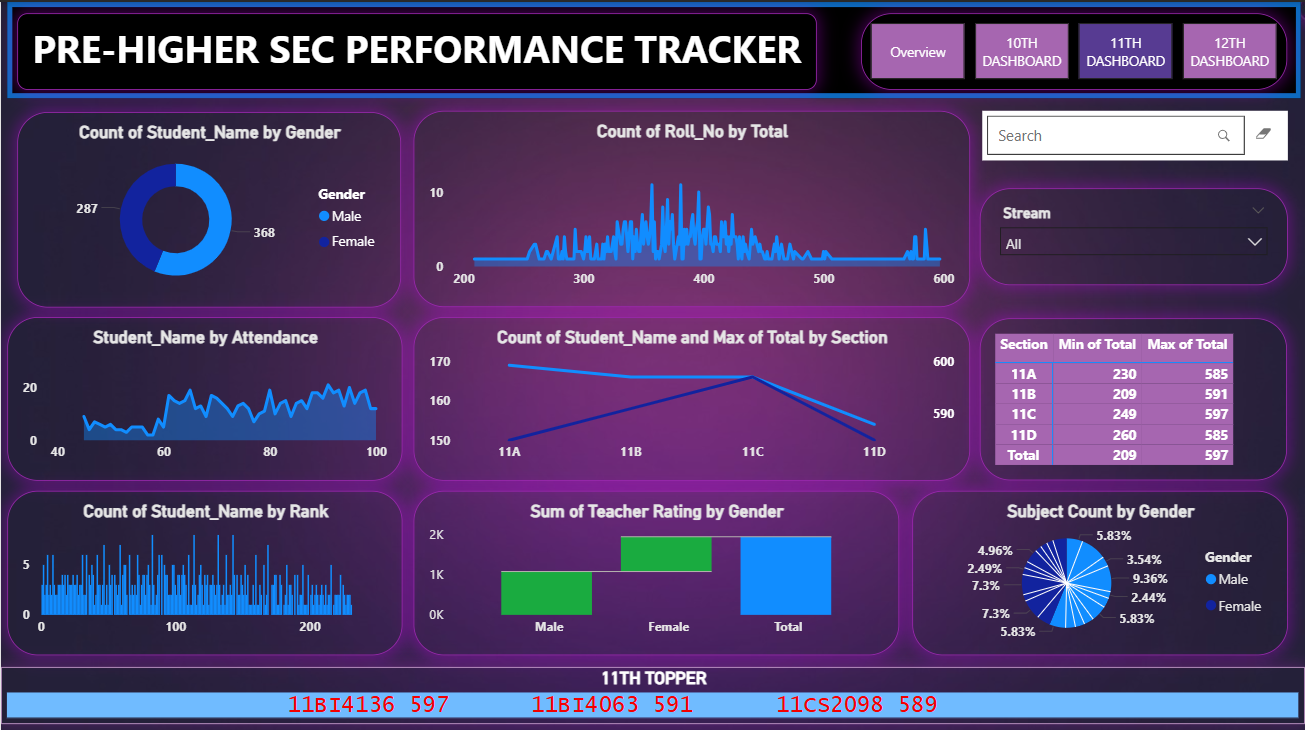

Layout of this report page (visuals, bound fields, positions):
{"tool":"powerbi","page":{"name":"11TH DASHBOARD","canvas":[1280,720],"ordinal":2},"visuals":[{"type":"columnChart","fields":{"Y":["CountNonNull(Append2.Student_Name)"],"Category":["Append2.Rank"]},"box":[5.8,480.2,388.4,161.6],"z":0},{"type":"slicer","fields":{"Values":["Append2.Stream"]},"box":[960.5,182.6,302.3,95.3],"z":1000},{"type":"pieChart","title":"Subject  Count by Gender ","fields":{"Category":["Append2.Gender"],"Y":["CountNonNull(Append2.Physics)","CountNonNull(Append2.Tamil)","CountNonNull(Append2.Economics)","CountNonNull(Append2.English)","CountNonNull(Append2.Computer Science)","CountNonNull(Append2.Commerce)","CountNonNull(Append2.Chemistry)","CountNonNull(Append2.Business Maths)","CountNonNull(Append2.Biology)","CountNonNull(Append2.Accounts)","CountNonNull(Append2.Maths)"]},"box":[894.2,480.2,368.6,161.6],"z":2000},{"type":"pivotTable","fields":{"Rows":["Append2.Section"],"Values":["Min(Append2.Total)","Max(Append2.Total)"]},"box":[960.7,310.4,301.8,159.5],"z":3000},{"type":"areaChart","title":"Student_Name by Attendance","fields":{"Y":["CountNonNull(Append2.Student_Name)"],"Category":["Append2.Attendance"]},"box":[6.1,309.2,387.7,160.7],"z":4000},{"type":"areaChart","fields":{"Y":["CountNonNull(Append2.Roll_No)"],"Category":["Append2.Total"]},"box":[404.9,106.7,546,192.6],"z":5000},{"type":"waterfallChart","fields":{"Category":["Append2.Gender"],"Y":["Sum(11th overall.Teacher Rating)"]},"box":[404.7,480.2,476.7,161.6],"z":6000},{"type":"lineChart","fields":{"Category":["Append2.Section"],"Y":["CountNonNull(Append2.Student_Name)"],"Y2":["Max(Append2.Total)"]},"box":[404.9,309.2,546,160.7],"z":7000},{"type":"shape","box":[6.1,0,1269.9,94.5],"z":8000},{"type":"textbox","box":[16.3,10.5,784.9,75.6],"z":9000},{"type":"pageNavigator","box":[844.2,10.5,418.6,75.6],"z":10000},{"type":"ScrollingTextVisual1448795304508","title":"11TH TOPPER","fields":{"Category":["11th overall.Roll_No"],"Measure Absolute":["Sum(11th overall.Total)"]},"box":[0,652.3,1280.2,55.8],"z":11000},{"type":"donutChart","fields":{"Y":["CountNonNull(11th overall.Student_Name)"],"Category":["11th overall.Gender"]},"box":[16.3,108.1,376.7,191.9],"z":12000},{"type":"textFilter25A4896A83E0487089E2B90C9AE57C8A","fields":{"field":["11th overall.Roll_No"]},"box":[962.8,107,300,48.8],"z":13000}]}

Visuals, with their boxes in screenshot pixels (x1, y1, x2, y2), scaled from the page's 1280x720 canvas onto the 1305x730 screenshot:
columnChart - CountNonNull(Append2.Student_Name) x Append2.Rank: pyautogui.locateOnScreen(6, 487, 402, 651)
slicer - Append2.Stream: pyautogui.locateOnScreen(979, 185, 1287, 282)
"Subject  Count by Gender " pieChart: pyautogui.locateOnScreen(912, 487, 1287, 651)
pivotTable - Append2.Section x Min(Append2.Total): pyautogui.locateOnScreen(979, 315, 1287, 476)
"Student_Name by Attendance" areaChart: pyautogui.locateOnScreen(6, 313, 401, 476)
areaChart - CountNonNull(Append2.Roll_No) x Append2.Total: pyautogui.locateOnScreen(413, 108, 969, 303)
waterfallChart - Append2.Gender x Sum(11th overall.Teacher Rating): pyautogui.locateOnScreen(413, 487, 899, 651)
lineChart - Append2.Section x CountNonNull(Append2.Student_Name): pyautogui.locateOnScreen(413, 313, 969, 476)
shape: pyautogui.locateOnScreen(6, 0, 1301, 96)
textbox: pyautogui.locateOnScreen(17, 11, 817, 87)
pageNavigator: pyautogui.locateOnScreen(861, 11, 1287, 87)
"11TH TOPPER" ScrollingTextVisual1448795304508: pyautogui.locateOnScreen(0, 661, 1304, 718)
donutChart - CountNonNull(11th overall.Student_Name) x 11th overall.Gender: pyautogui.locateOnScreen(17, 110, 401, 304)
textFilter25A4896A83E0487089E2B90C9AE57C8A - 11th overall.Roll_No: pyautogui.locateOnScreen(982, 108, 1287, 158)
